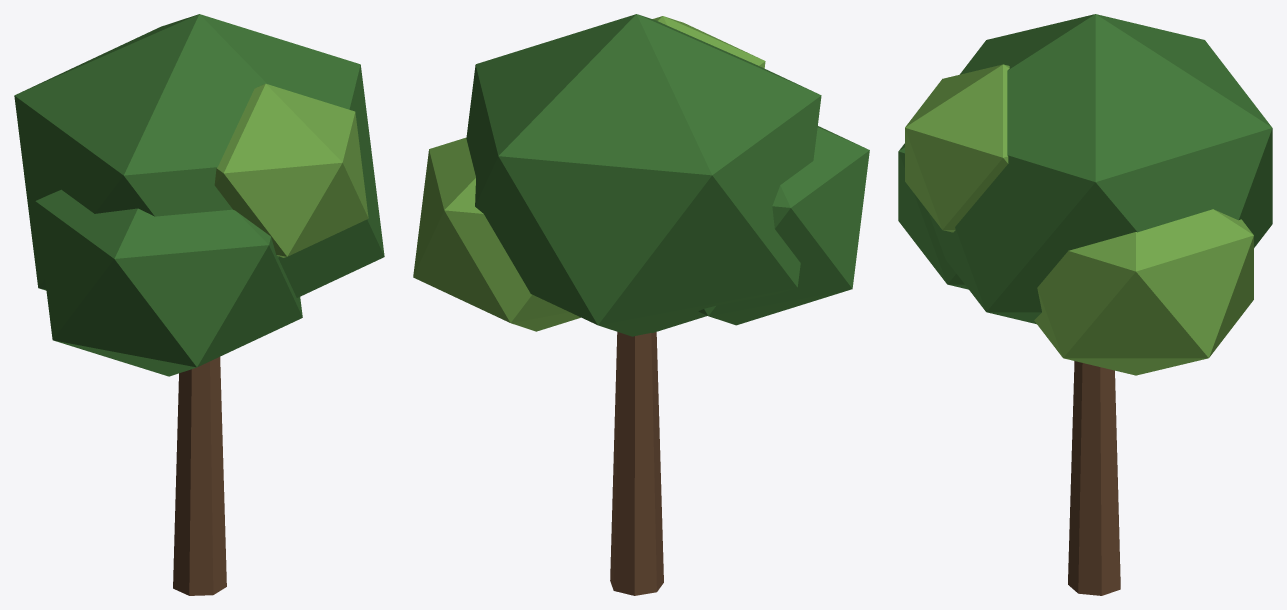
Rendered from VG_Tree_Broadleaf.fbx.
3 renders of one model, left to right at view 1: azimuth 30°, elevation 25°; view 2: azimuth 150°, elevation 25°; view 3: azimuth 270°, elevation 25°, orthographic.
Visible parts, largest first — view 1: VG_Tree_Broadleaf_Mesh; view 2: VG_Tree_Broadleaf_Mesh; view 3: VG_Tree_Broadleaf_Mesh.
Boxes of the visible parts, <box> form: VG_Tree_Broadleaf_Mesh: <box>14,14,384,595</box>; VG_Tree_Broadleaf_Mesh: <box>413,14,869,595</box>; VG_Tree_Broadleaf_Mesh: <box>898,14,1272,595</box>.
Bounding box in the file's own units: 3.69 × 5.45 × 3.24.
